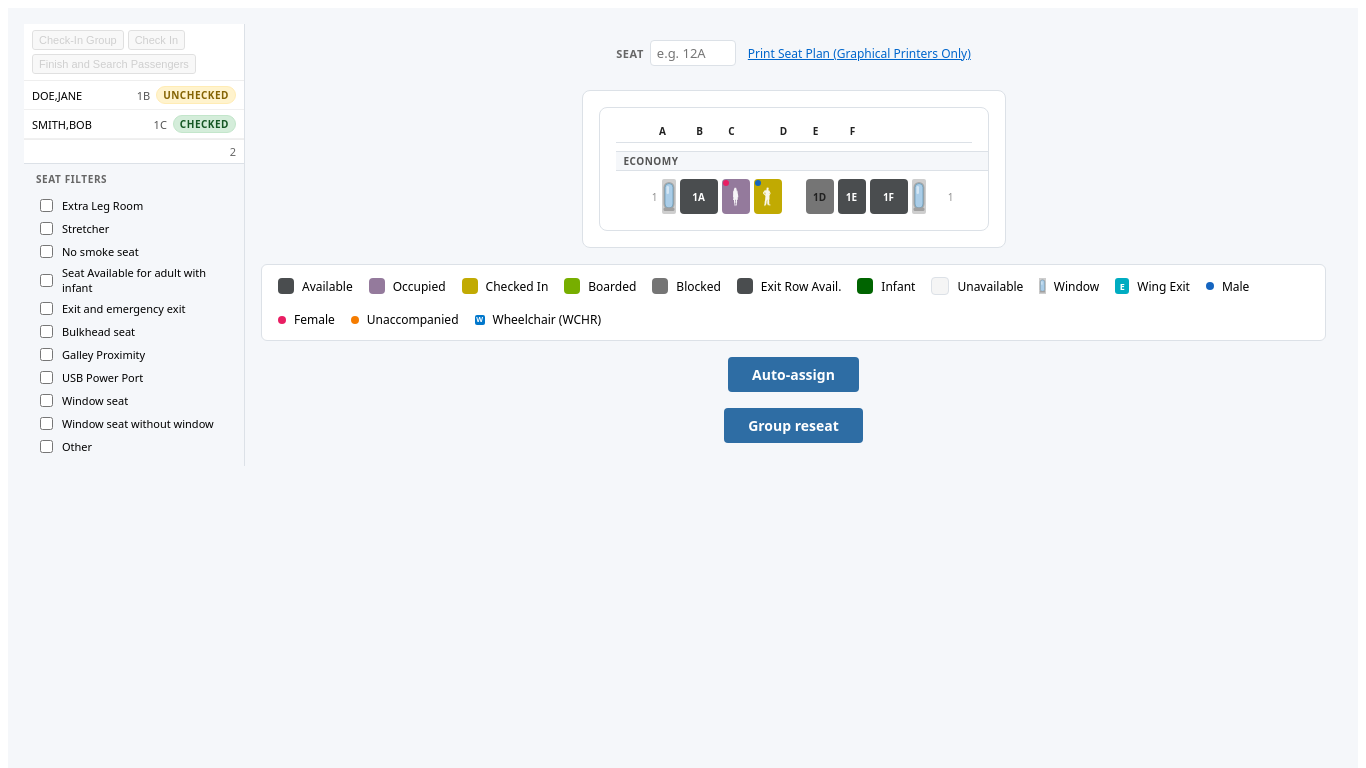
Test: SeatPlanTab — passenger drawer › clicking checked_in seat opens drawer
Step 1. Click the button named "1C" → (768, 196), box [754, 179, 782, 214]
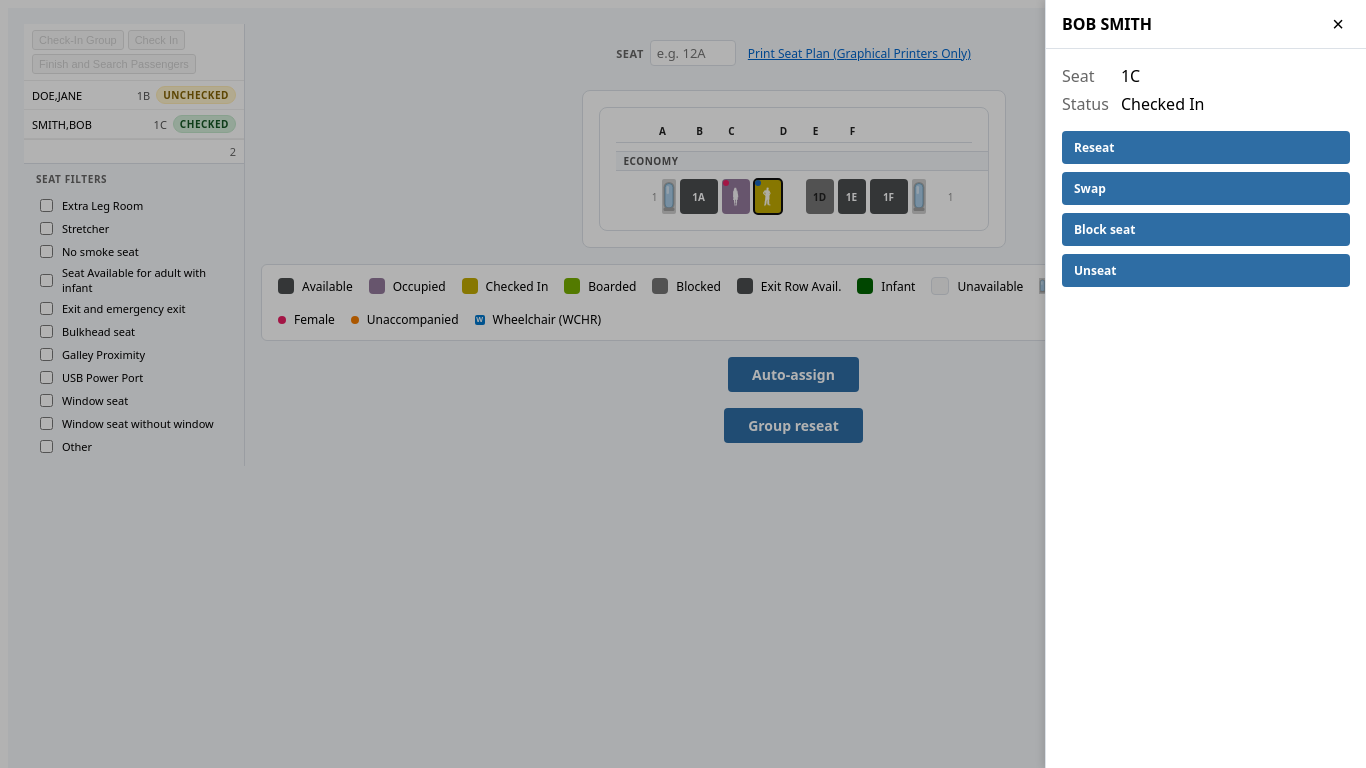
Expected: the element named "passenger details" is shown, [1045, 0, 1365, 767]
Expected: the heading "BOB SMITH" is shown, [1062, 13, 1152, 35]
